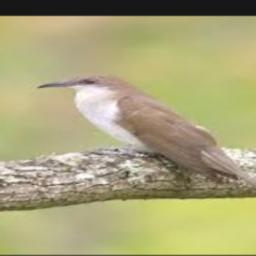Cuckoo: (37, 73, 256, 224)
